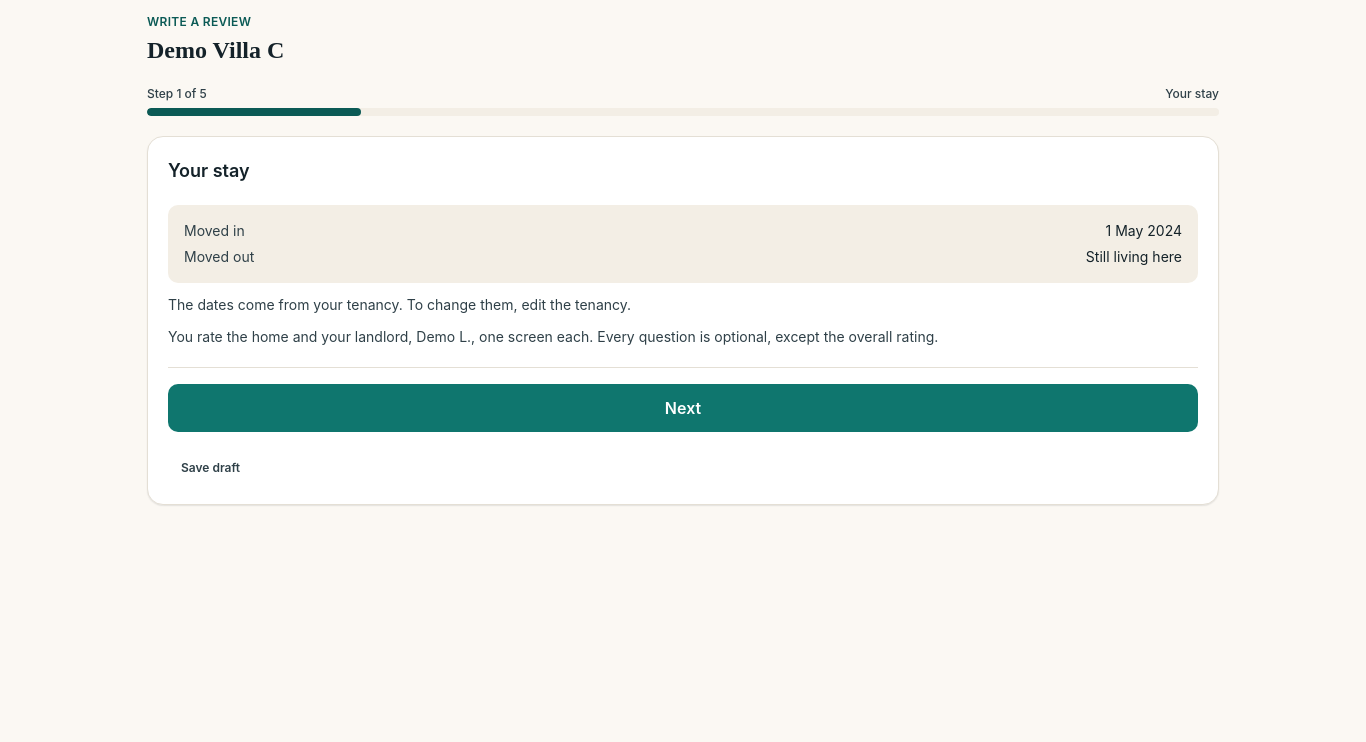
Test case: review form › asks for an overall rating when nothing is rated
Click the button with test id "review-next". click: (683, 408)
box: left=168, top=384, right=1198, bottom=432
(page scrolled)
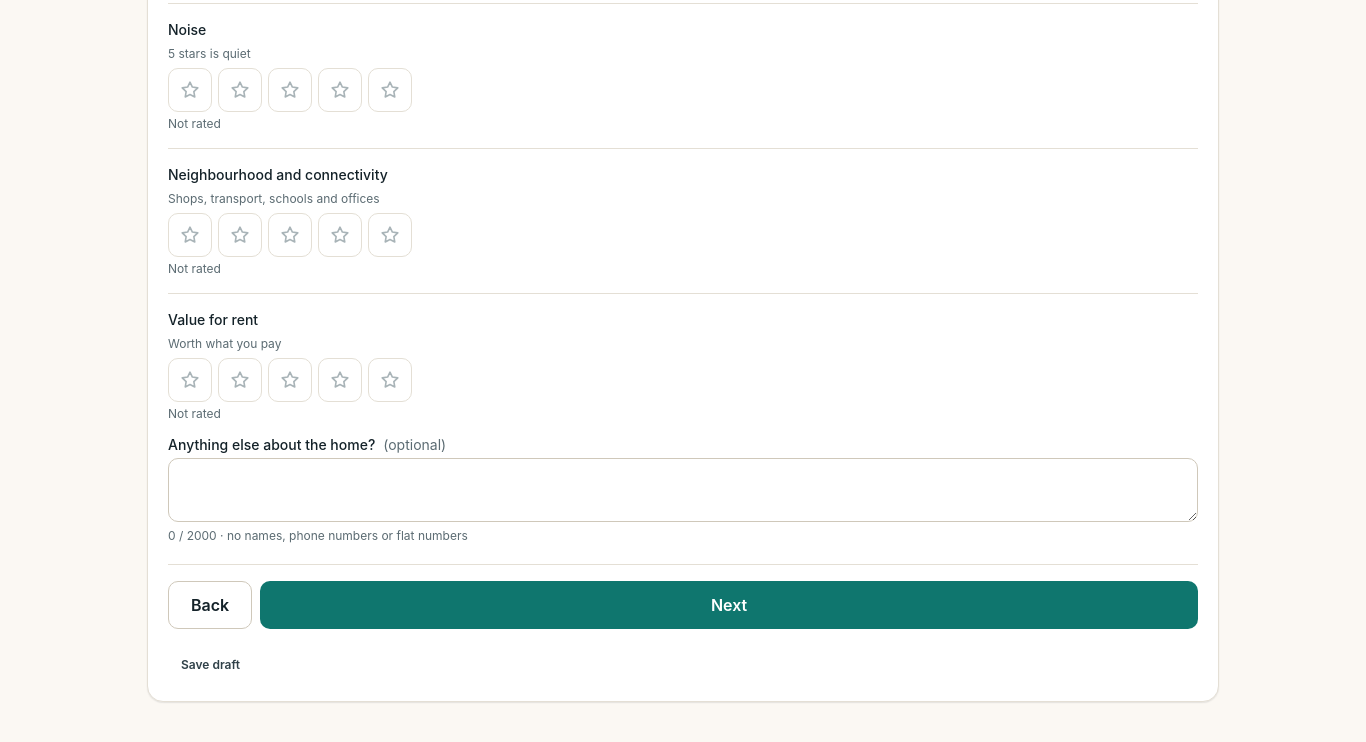
Click the button with test id "review-next". click: (729, 605)
box: left=260, top=581, right=1198, bottom=629
(page scrolled)
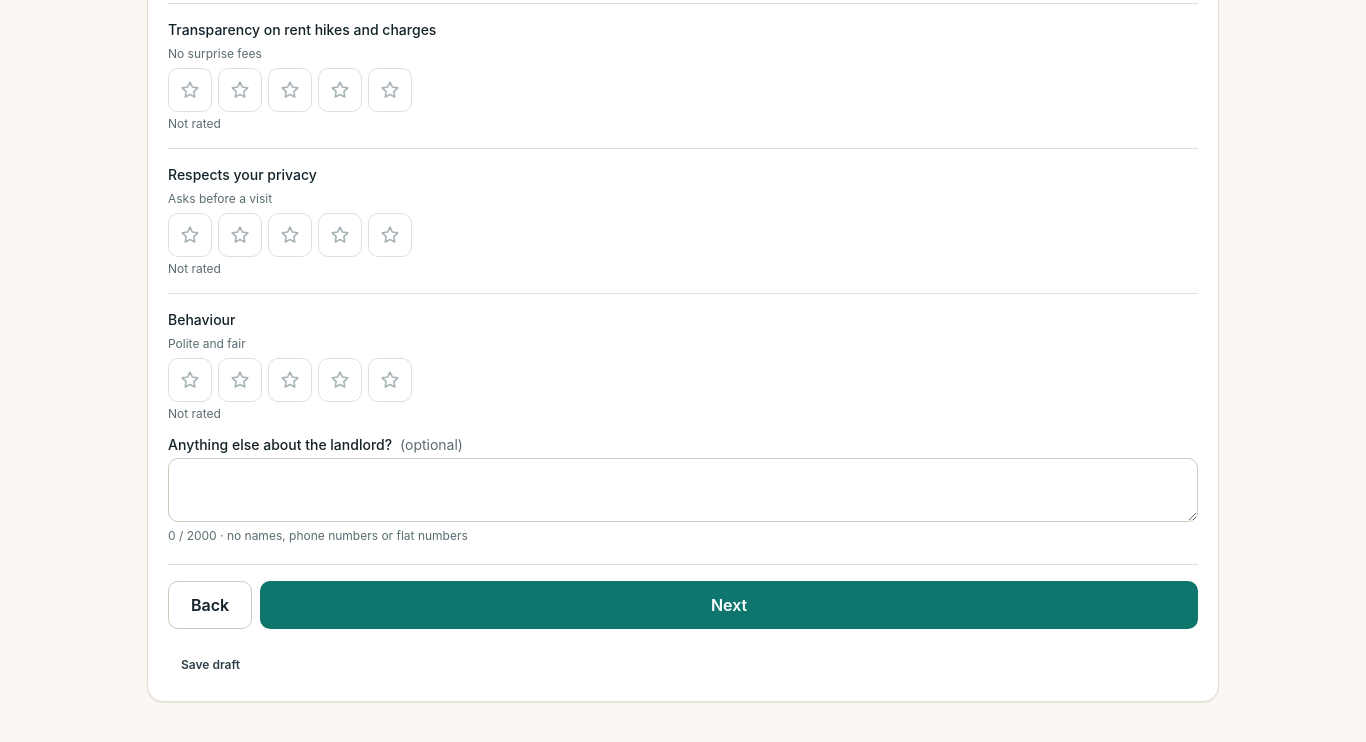
Click the button with test id "review-next". click: (729, 605)
box: left=260, top=581, right=1198, bottom=629
(page scrolled)
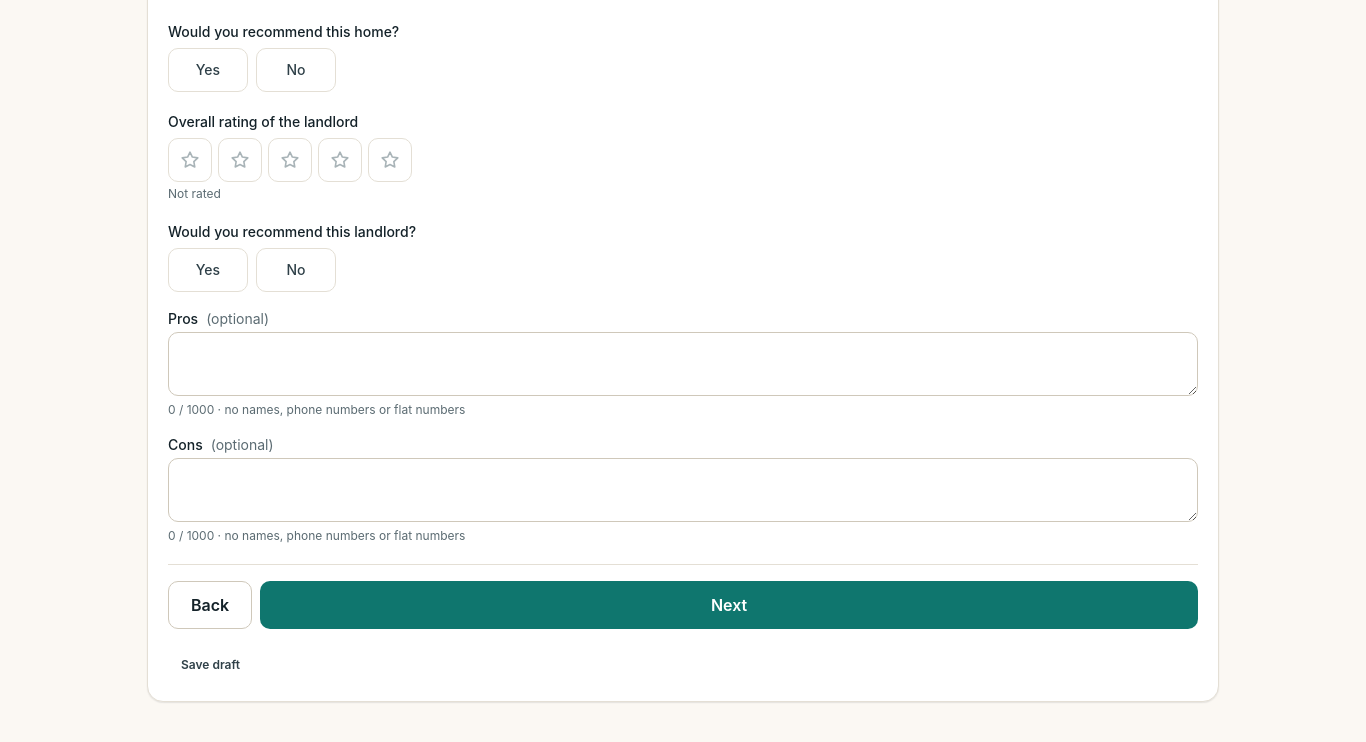
Click the button with test id "review-next". click: (729, 605)
box: left=260, top=581, right=1198, bottom=629
(page scrolled)
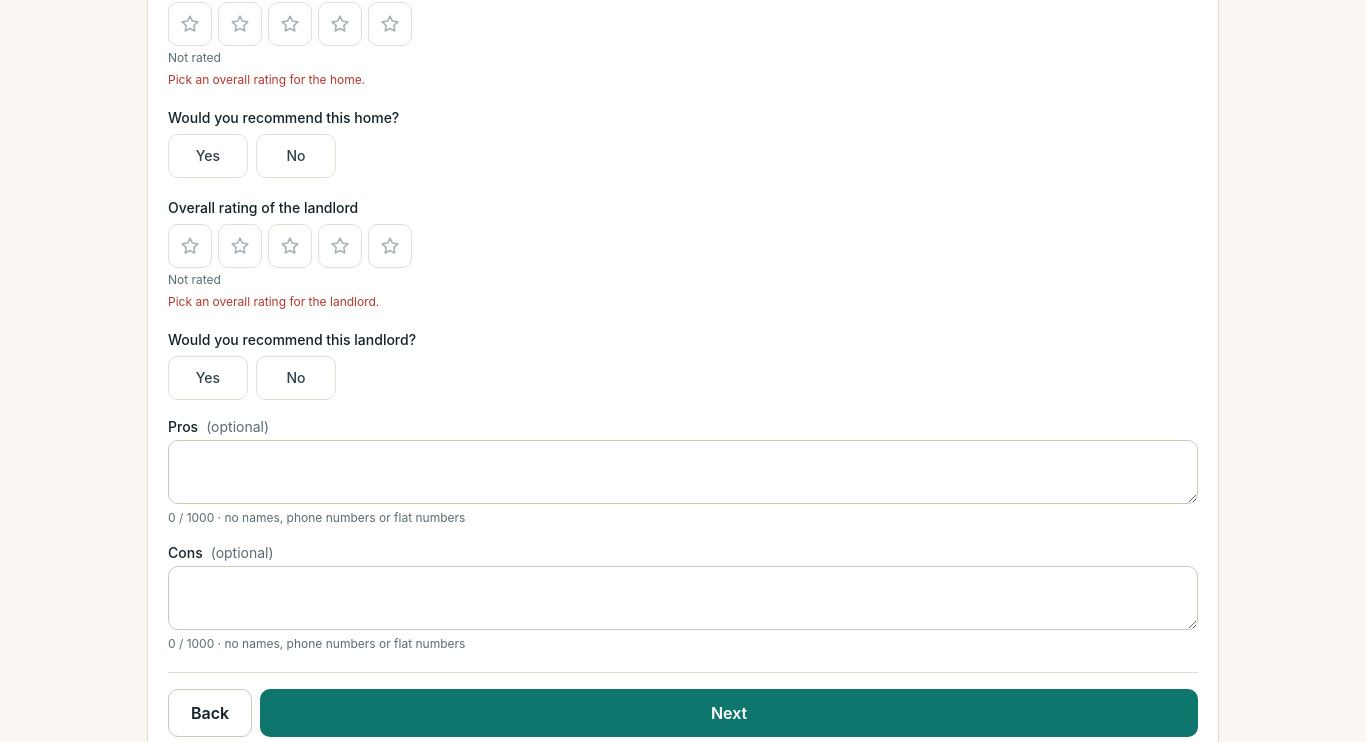
Now the elements with test id "review-field-error" read "Pick an overall rating for the home.", "Pick an overall rating for the landlord.", in this order, box left=168, top=72, right=365, bottom=87; left=168, top=294, right=379, bottom=309
